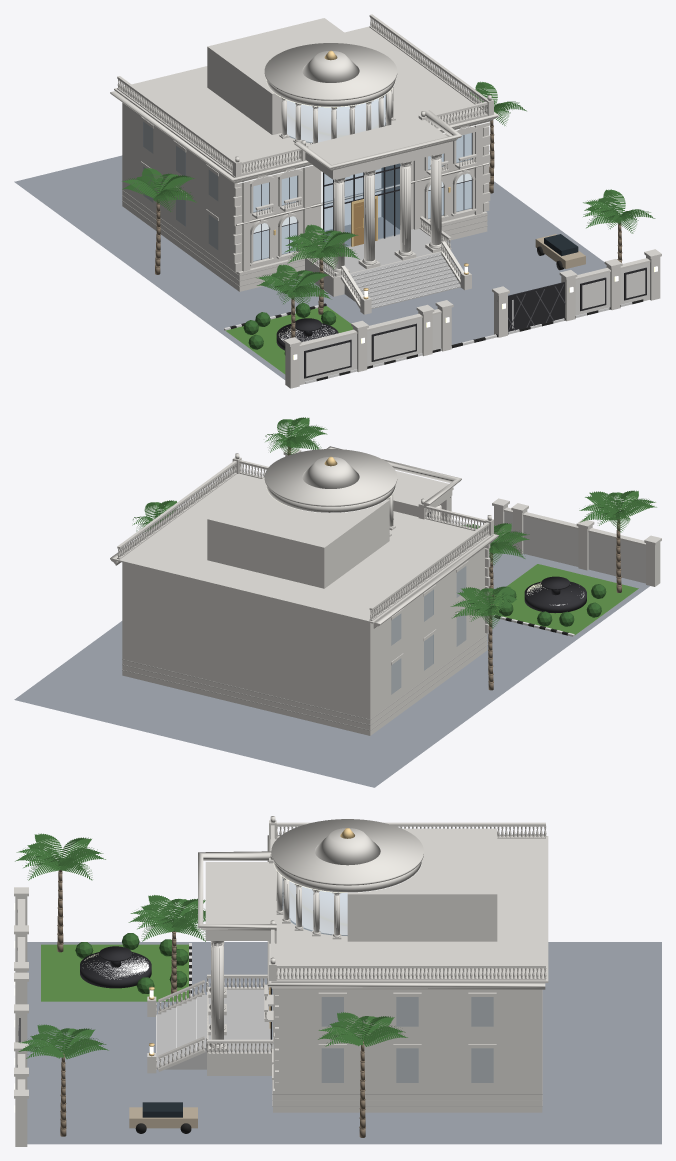
The model's file is villa-royale.glb.
The picture shows the model from 3 angles, top to bottom: view 1: azimuth 30°, elevation 25°; view 2: azimuth 150°, elevation 25°; view 3: azimuth 270°, elevation 25°; orthographic projection. The views are drawn at different scales.
Visible parts, largest first — view 1: cour_granit, larmier, corps_g, niveau2, cyl.055, entablement, soubassement, mur_rideau, cyl.053, cyl.052, corps_d, portail (+29 smaller); view 2: cour_granit, corps_g, larmier, niveau2, corps_d, corps_c, soubassement, cyl.055, cloture, gazon, entablement, cyl.059 (+8 smaller); view 3: cour_granit, corps_d, larmier, niveau2, cyl.055, soubassement, entablement, gazon, dallage_portique, corniche_haute, cyl.059, cyl.053 (+19 smaller).
Boxes of the visible parts, x1=… form: cour_granit: x1=14, y1=155, x2=606, y2=379; larmier: x1=114, y1=26, x2=493, y2=177; corps_g: x1=122, y1=102, x2=321, y2=270; niveau2: x1=207, y1=18, x2=363, y2=134; cyl.055: x1=264, y1=43, x2=397, y2=100; entablement: x1=305, y1=118, x2=452, y2=179; soubassement: x1=122, y1=187, x2=487, y2=291; mur_rideau: x1=324, y1=163, x2=400, y2=246; cyl.053: x1=286, y1=95, x2=385, y2=142; cyl.052: x1=287, y1=95, x2=385, y2=142; corps_d: x1=382, y1=125, x2=485, y2=229; portail: x1=508, y1=282, x2=564, y2=331; cour_granit: x1=14, y1=550, x2=649, y2=787; corps_g: x1=287, y1=548, x2=485, y2=716; larmier: x1=114, y1=473, x2=493, y2=623; niveau2: x1=207, y1=477, x2=389, y2=588; corps_d: x1=122, y1=562, x2=205, y2=676; corps_c: x1=205, y1=583, x2=286, y2=696; soubassement: x1=122, y1=633, x2=487, y2=735; cyl.055: x1=264, y1=449, x2=397, y2=506; cloture: x1=504, y1=511, x2=645, y2=583; gazon: x1=493, y1=564, x2=638, y2=635; entablement: x1=393, y1=471, x2=452, y2=517; cyl.059: x1=524, y1=581, x2=586, y2=613; cour_granit: x1=27, y1=942, x2=661, y2=1144; corps_d: x1=279, y1=989, x2=542, y2=1090; larmier: x1=271, y1=836, x2=548, y2=982; niveau2: x1=347, y1=828, x2=497, y2=941; cyl.055: x1=271, y1=819, x2=423, y2=885; soubassement: x1=273, y1=1064, x2=542, y2=1112; entablement: x1=205, y1=862, x2=276, y2=940; gazon: x1=41, y1=944, x2=188, y2=1001; dallage_portique: x1=208, y1=989, x2=273, y2=1052; corniche_haute: x1=267, y1=834, x2=545, y2=989; cyl.059: x1=80, y1=952, x2=151, y2=988; cyl.053: x1=289, y1=881, x2=347, y2=934.
Size of the model in its own units: 33.62 by 15.9 by 43.3.
